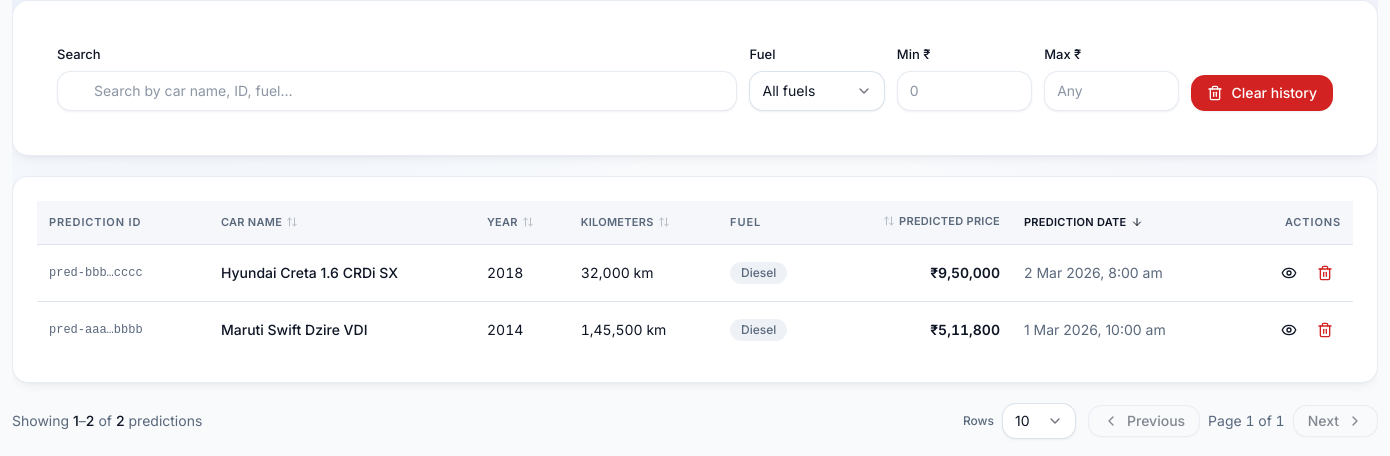
Test: search and filters › debounces search into the API request and filters the rows
Check: the text "Maruti Swift Dzire VDI" is shown, box top-left (209, 302), bottom-right (475, 358)
Type "creta" into the search field with placeholder "Search by car name, ID, fuel…" at (397, 90), box top-left (57, 70), bottom-right (738, 110)
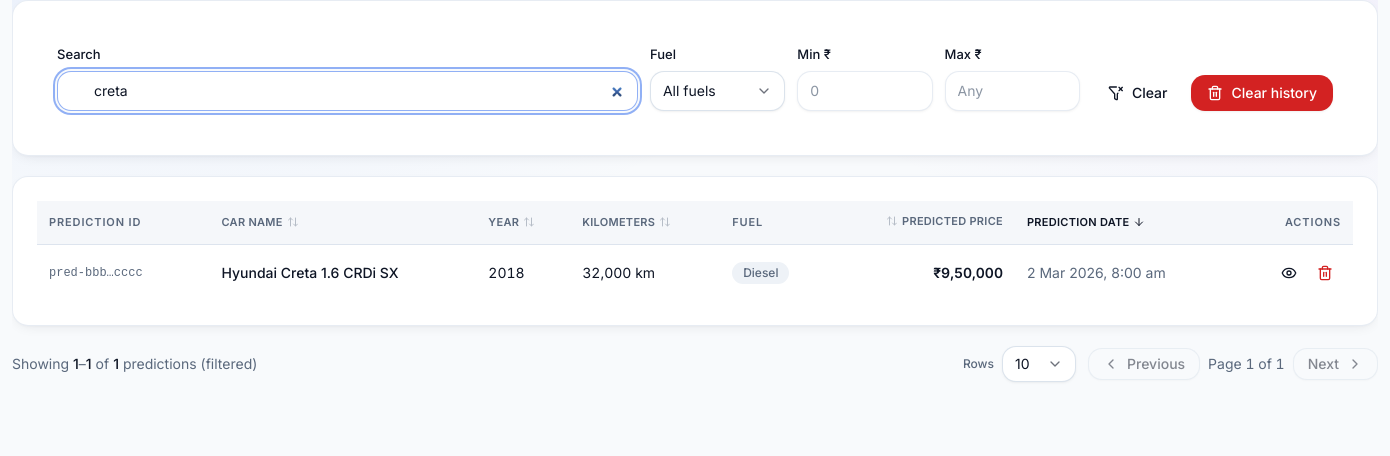
Check: the text "Hyundai Creta 1.6 CRDi SX" is shown, box top-left (210, 244), bottom-right (476, 301)
Check: the text "Maruti Swift Dzire VDI" is gone
Check: the text "Showing 1–1 of 1 predictions (filtered)" is shown, box top-left (12, 354), bottom-right (257, 374)
